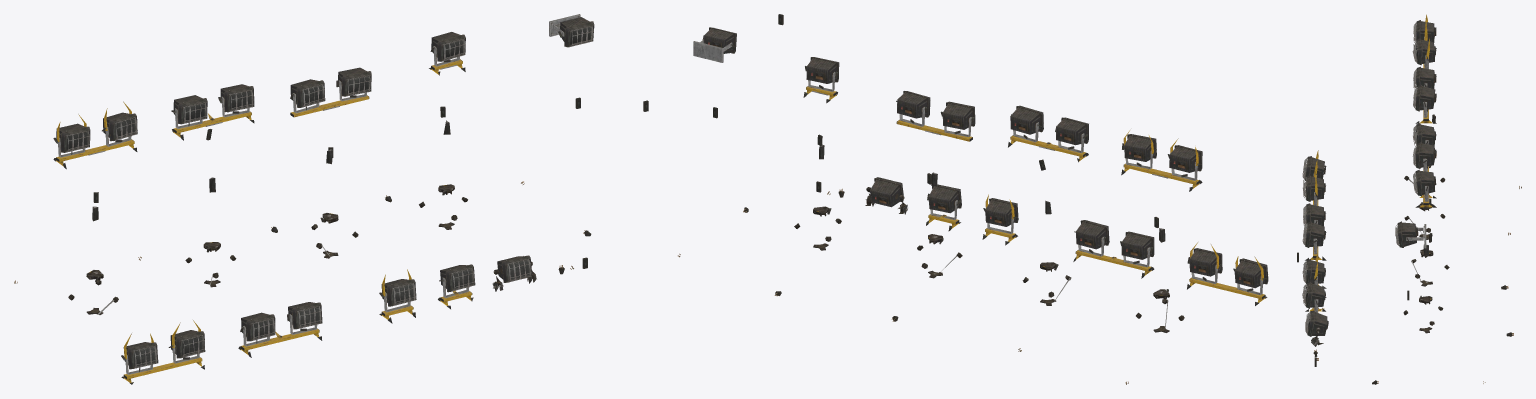
File: flood_lights.glb
The picture shows the model from 3 angles, left to right: view 1: azimuth 30°, elevation 25°; view 2: azimuth 150°, elevation 25°; view 3: azimuth 270°, elevation 25°; orthographic projection. The views are drawn at different scales.
Parts seen in each view (by area): view 1: flood_lights_cable_a_geo, flood_lights_floor_double_a_light_01; view 2: flood_lights_cable_a_geo; view 3: flood_lights_cable_a_geo.
Boxes of the visible parts, x1,y1,x2,y2 form: flood_lights_cable_a_geo: [14, 14, 648, 384]; flood_lights_floor_double_a_light_01: [65, 27, 591, 366]; flood_lights_cable_a_geo: [677, 14, 1268, 384]; flood_lights_cable_a_geo: [1297, 14, 1521, 384].
Bounding box in the file's own units: 4.48 × 1.77 × 2.04.
2 materials, 2 textured.
